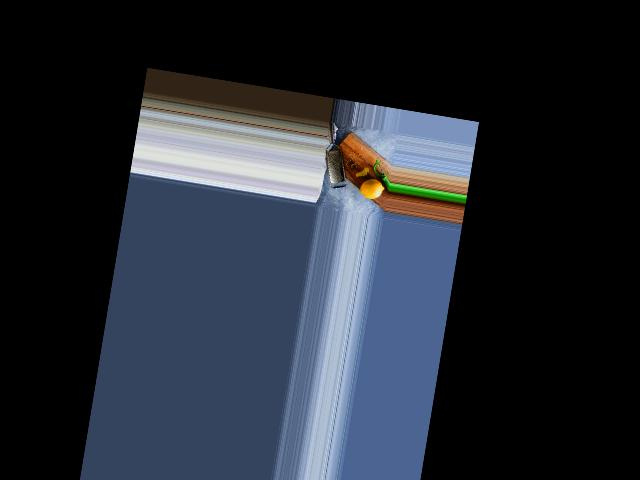lemon: (358, 176, 385, 201)
